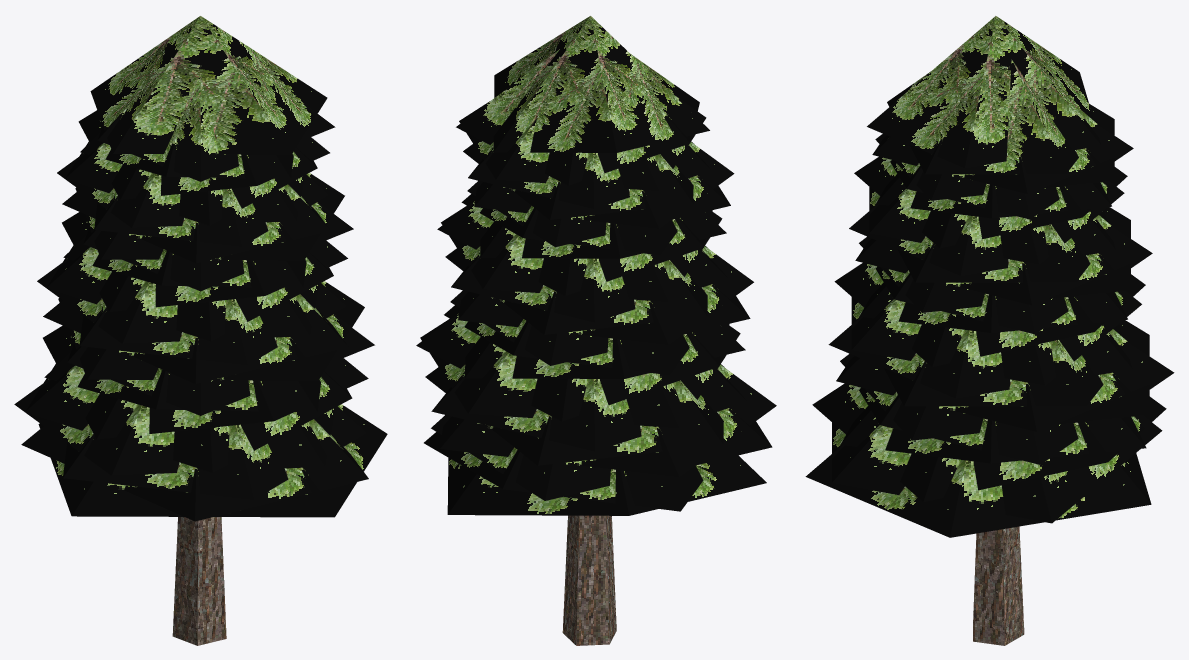
The model's file is tree_refined.glb.
3 views of the same model, side by side, from view 1: azimuth 30°, elevation 25°; view 2: azimuth 150°, elevation 25°; view 3: azimuth 270°, elevation 25° (orthographic).
Parts seen in each view (by area): view 1: Cone; view 2: Cone; view 3: Cone.
Boxes of the visible parts, x1,y1,x2,y2 form: Cone: (14, 16, 387, 645); Cone: (416, 16, 776, 645); Cone: (805, 16, 1174, 645).
Size of what is drawn, in the model's own units: 6.56 by 12 by 6.47.
Materials: 2 (2 with a texture image).
